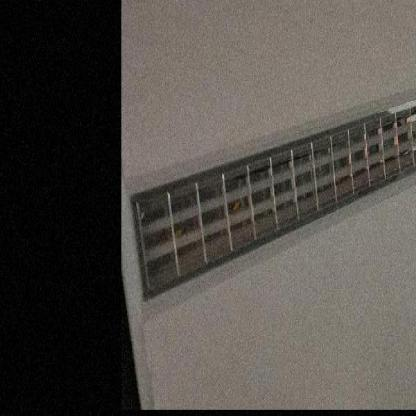light_off: (128, 78, 415, 307)
